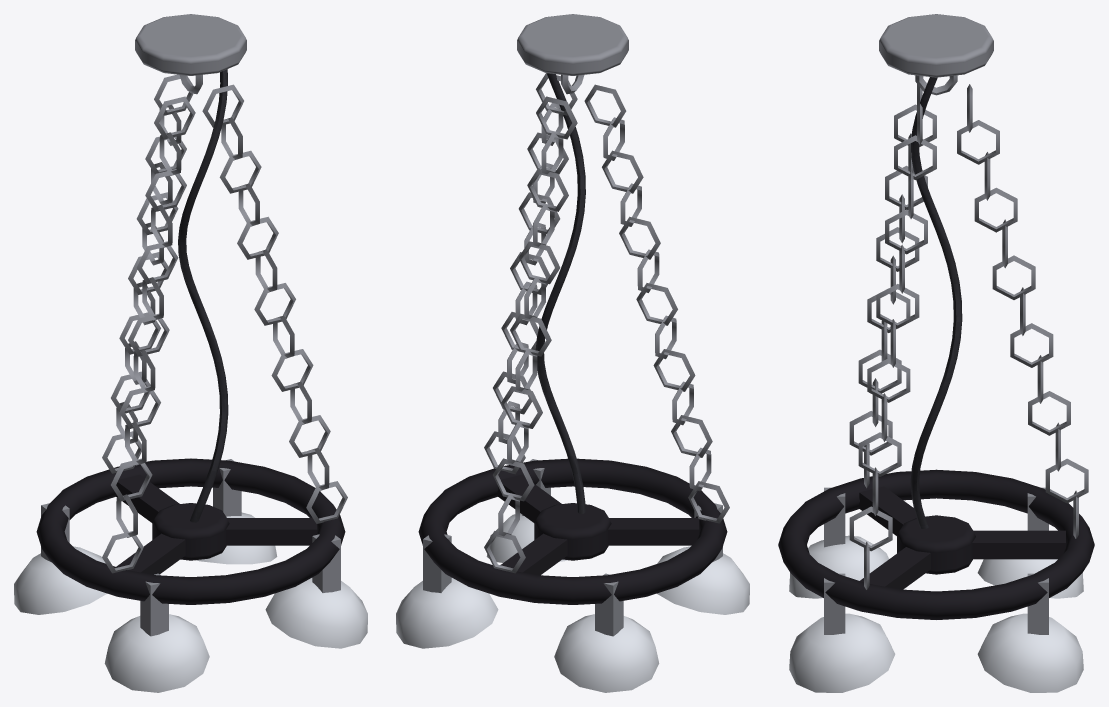
The model's file is s_bev_lamp.glb.
3 renders of one model, left to right at view 1: azimuth 30°, elevation 25°; view 2: azimuth 150°, elevation 25°; view 3: azimuth 270°, elevation 25°, orthographic. The views are drawn at different scales.
Parts seen in each view (by area): view 1: s_bev_lamp_mesh; view 2: s_bev_lamp_mesh; view 3: s_bev_lamp_mesh.
Part boxes in pixels (bbox=[...]): s_bev_lamp_mesh: bbox=[14, 14, 367, 692]; s_bev_lamp_mesh: bbox=[396, 14, 749, 692]; s_bev_lamp_mesh: bbox=[778, 14, 1094, 692].
Size of what is drawn, in the model's own units: 0.44 by 0.9161 by 0.44.
Materials: 5 (4 with a texture image).
